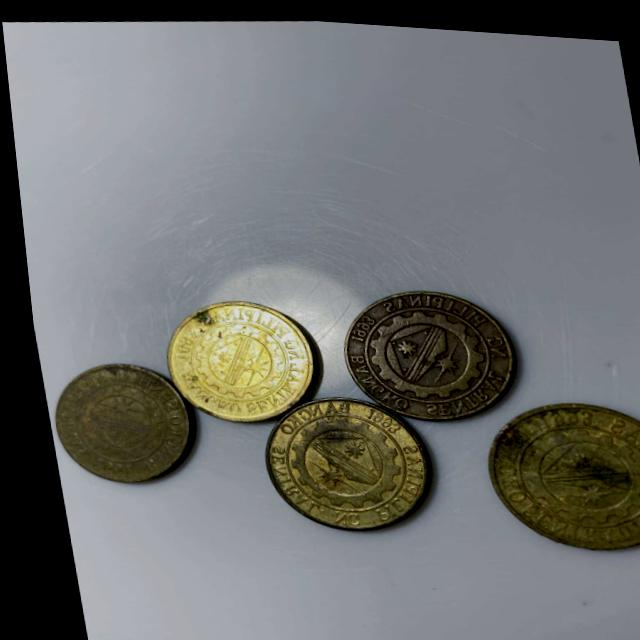25Cent_Old_Back: (475, 387, 640, 551), (248, 386, 426, 536), (338, 277, 515, 421), (37, 353, 187, 494), (154, 292, 312, 423)
